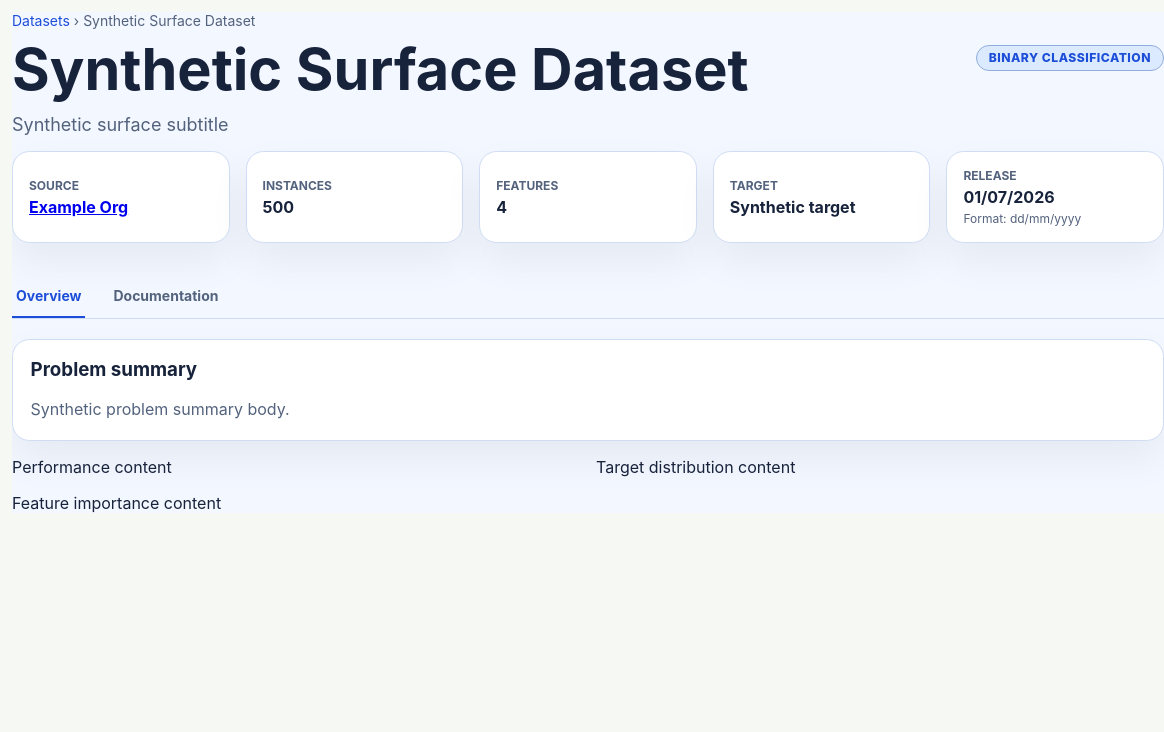
Test: DatasetDetailSurface shared composition (S0119) › capability-driven Inference tab (S0271) › keeps Overview and Documentation content unchanged when Inference is unavailable
The image size is (1164, 732).
Expected: the text "Performance content" is shown, [12, 457, 172, 477]
Expected: the text "Target distribution content" is shown, [596, 457, 795, 477]
Click the tab "Documentation". click: (166, 297)
box: [109, 275, 222, 318]
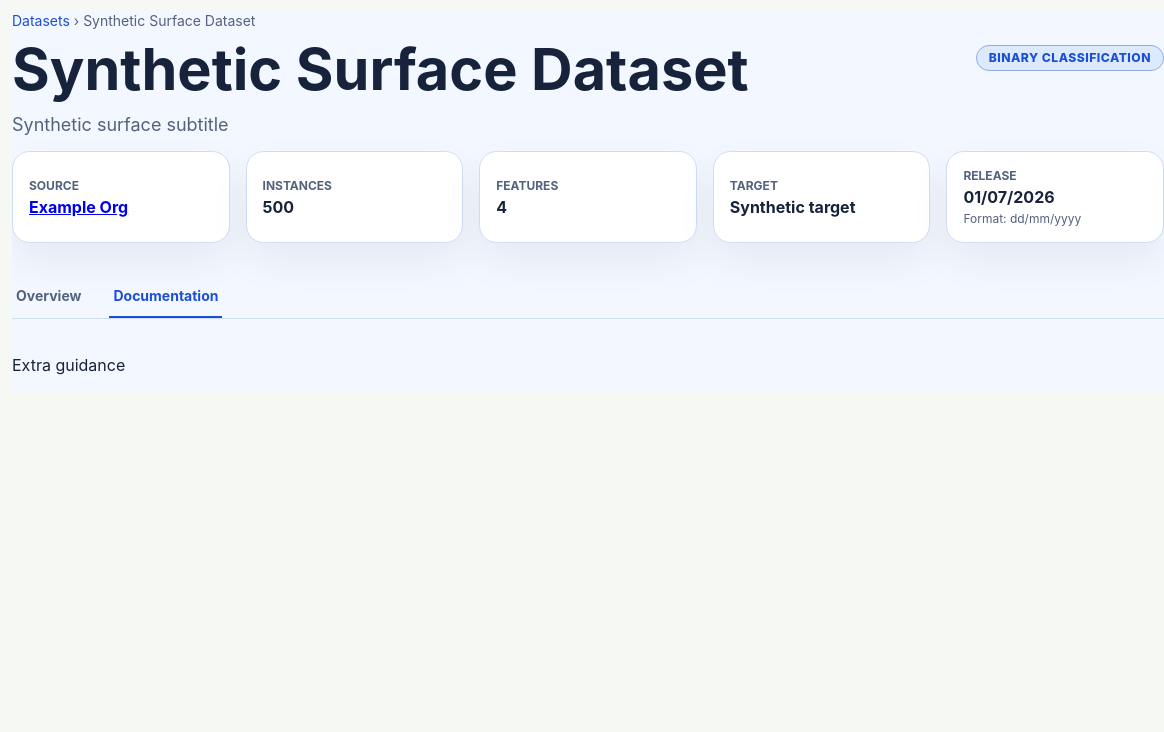
Now the panel reads "Extra guidance", box [12, 355, 125, 375]
